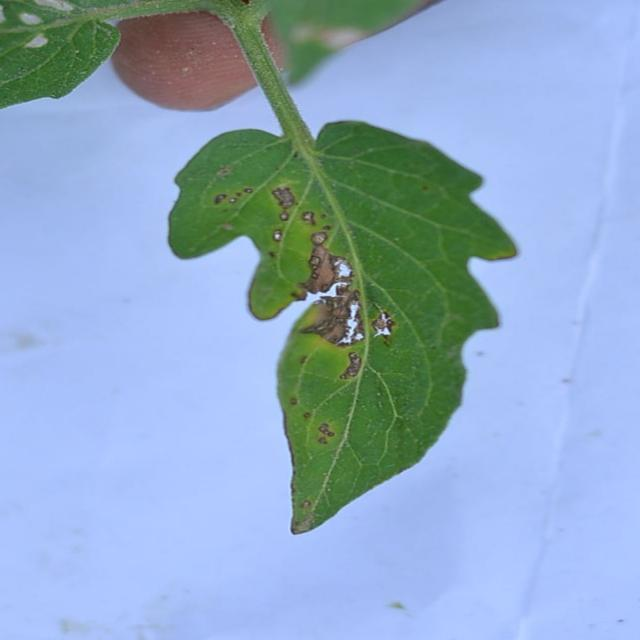infected: (200, 158, 413, 464), (0, 0, 124, 81)
